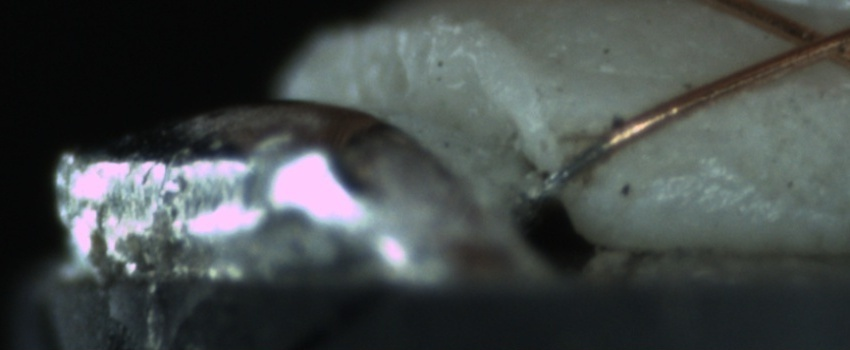CL: (771, 12, 849, 74)
TS: (525, 137, 607, 203)
TTCW: (526, 109, 646, 203)
